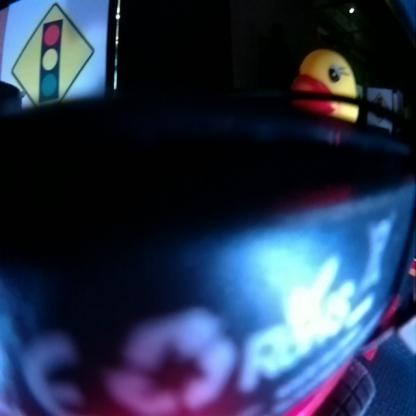Duckie: (291, 48, 359, 122)
Duckiebot: (1, 97, 415, 414)
Signal sign: (12, 2, 94, 105)
